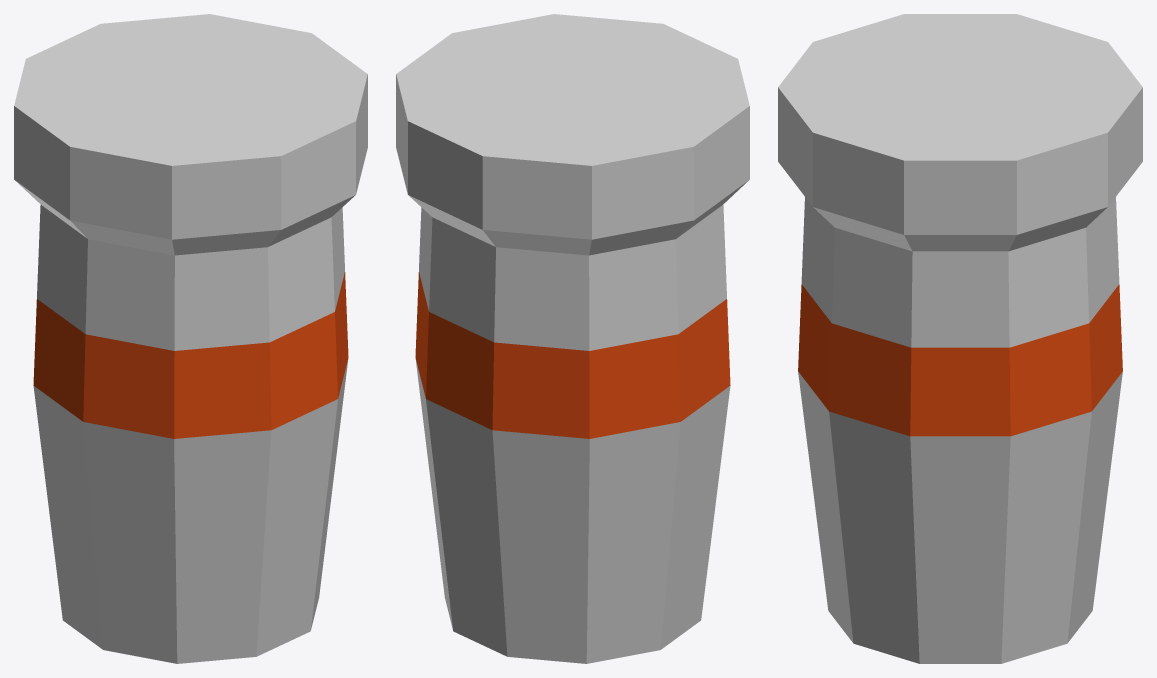
The model's file is cup.fbx.
The picture shows the model from 3 angles, left to right: view 1: azimuth 30°, elevation 25°; view 2: azimuth 150°, elevation 25°; view 3: azimuth 270°, elevation 25°; orthographic projection.
Parts seen in each view (by area): view 1: Cylinder; view 2: Cylinder; view 3: Cylinder.
Part boxes in pixels (x1,y1,x2,y2): Cylinder: (14, 14, 367, 663); Cylinder: (396, 14, 749, 663); Cylinder: (778, 14, 1142, 663).
Size of the model in its own units: 88.23 by 147 by 92.77.
